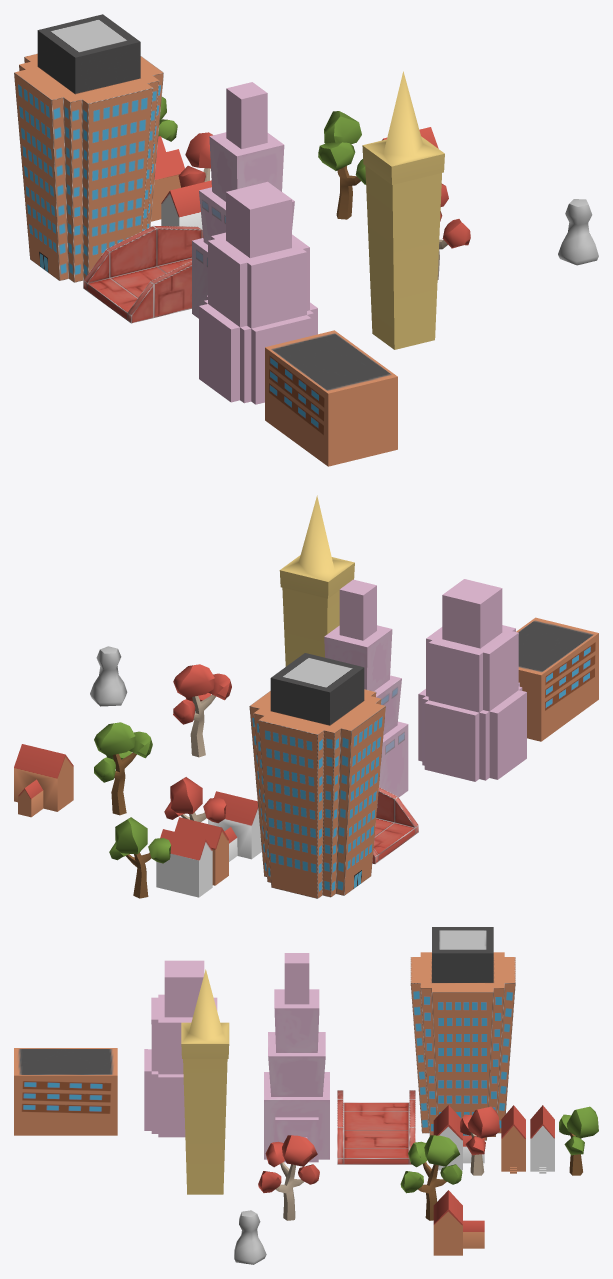
File: Assets Patrick.fbx
The picture shows the model from 3 angles, top to bottom: view 1: azimuth 30°, elevation 25°; view 2: azimuth 150°, elevation 25°; view 3: azimuth 270°, elevation 25°; orthographic projection. The views are drawn at different scales.
Parts seen in each view (by area): view 1: pCube1, pCube5, pCube10, pCube11, pCube4, polySurface1, polySurface62, pawn_pCylinder1, pCube7, pCube8, polySurface60, polySurface54; view 2: pCube1, pCube5, pCube11, pCube4, pCube10, pCube13, pCube12, polySurface54, polySurface62, polySurface61, pCube7, polySurface1 (+3 smaller); view 3: pCube1, pCube4, pCube11, pCube10, pCube5, polySurface1, polySurface54, polySurface62, pCube13, polySurface61, polySurface60, pCube12 (+3 smaller).
Part boxes in pixels (x1,y1,x2,y2): pCube1: [14, 14, 163, 282]; pCube5: [199, 181, 317, 404]; pCube10: [362, 71, 444, 349]; pCube11: [265, 330, 397, 466]; pCube4: [192, 82, 294, 318]; polySurface1: [83, 225, 203, 323]; polySurface62: [318, 111, 365, 219]; pawn_pCylinder1: [558, 199, 598, 265]; pCube7: [161, 180, 211, 229]; pCube8: [151, 149, 184, 221]; polySurface60: [178, 132, 212, 187]; polySurface54: [437, 183, 470, 279]; pCube1: [249, 653, 385, 898]; pCube5: [418, 579, 526, 781]; pCube11: [516, 617, 598, 741]; pCube4: [324, 579, 408, 797]; pCube10: [279, 495, 354, 666]; pCube13: [14, 744, 73, 817]; pCube12: [156, 829, 212, 897]; polySurface54: [173, 664, 231, 757]; polySurface62: [94, 722, 152, 815]; polySurface61: [109, 817, 171, 898]; pCube7: [208, 791, 261, 861]; polySurface1: [372, 787, 418, 863]; pCube1: [410, 927, 515, 1140]; pCube4: [264, 953, 329, 1163]; pCube11: [14, 1048, 117, 1135]; pCube10: [181, 969, 229, 1194]; pCube5: [144, 960, 217, 1137]; polySurface1: [337, 1090, 415, 1164]; polySurface54: [258, 1135, 319, 1220]; polySurface62: [400, 1135, 462, 1220]; pCube13: [433, 1190, 484, 1255]; polySurface61: [559, 1106, 598, 1175]; polySurface60: [460, 1106, 499, 1175]; pCube12: [530, 1105, 554, 1173].
Size of the model in its own units: 6.21 by 3.65 by 8.87.
